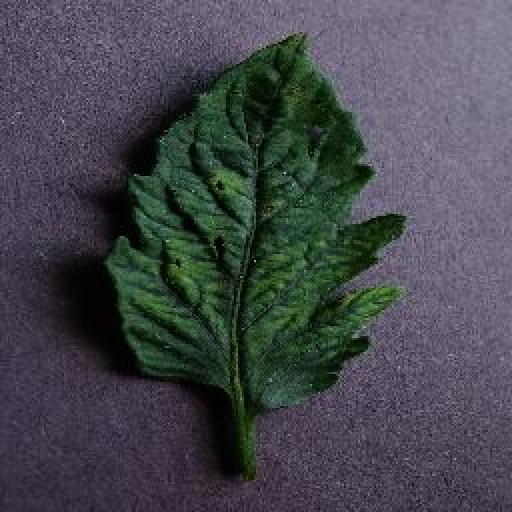Mosaic Virus: (98, 30, 410, 416)
